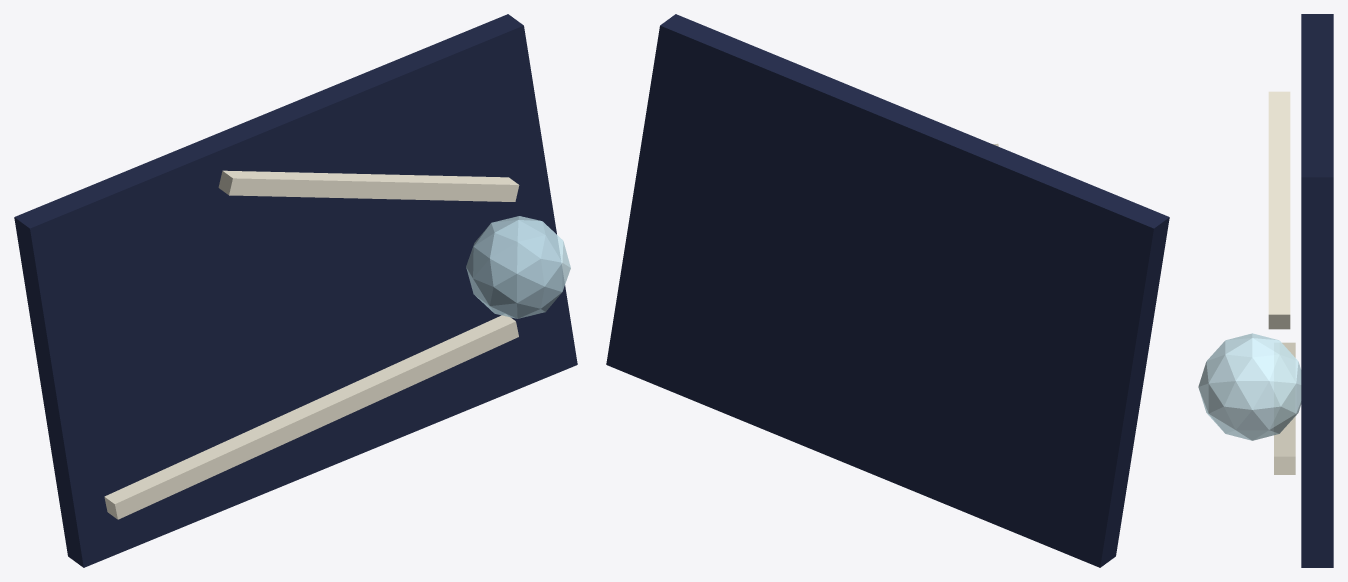
File: 02_world_prop_polish.glb
3 renders of one model, left to right at view 1: azimuth 30°, elevation 25°; view 2: azimuth 150°, elevation 25°; view 3: azimuth 270°, elevation 25°, orthographic. The views are drawn at different scales.
Parts seen in each view (by area): view 1: object_overlay_plate, edge_wear_a, glow_socket, edge_wear_b; view 2: object_overlay_plate; view 3: object_overlay_plate, glow_socket, edge_wear_b, edge_wear_a.
Boxes of the visible parts, box(x1,y1,x2,y2) form: object_overlay_plate: box(14, 14, 577, 567); edge_wear_a: box(104, 314, 518, 519); glow_socket: box(466, 216, 570, 318); edge_wear_b: box(218, 170, 519, 201); object_overlay_plate: box(606, 14, 1169, 567); object_overlay_plate: box(1301, 14, 1333, 567); glow_socket: box(1198, 333, 1301, 440); edge_wear_b: box(1268, 91, 1290, 329); edge_wear_a: box(1274, 342, 1295, 474).
Size of the model in its own units: 1.2 by 0.9141 by 0.25.
